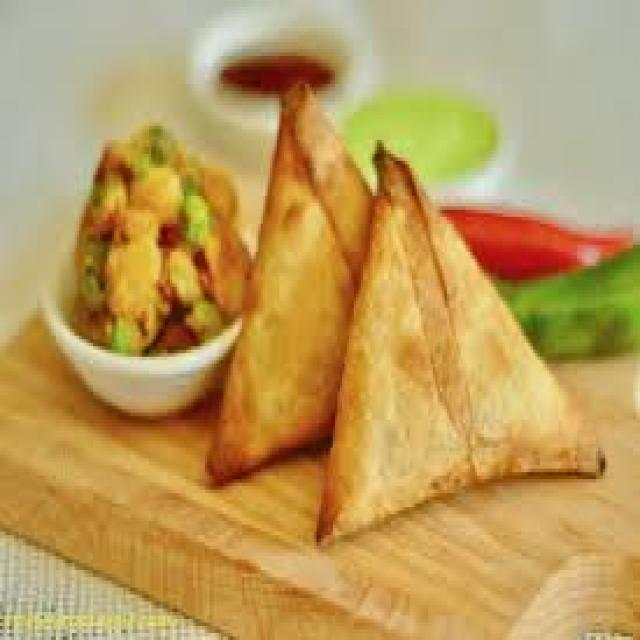SAMOSA: (314, 136, 618, 546), (203, 77, 378, 480)
